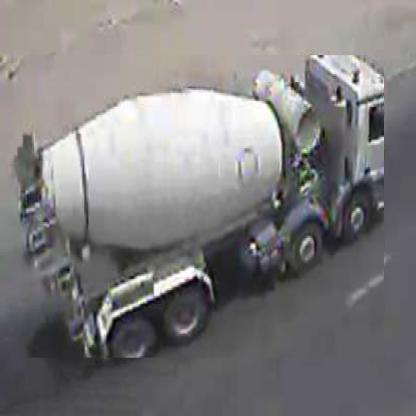truck: (17, 56, 385, 360)
